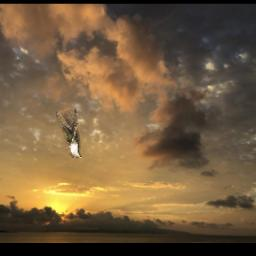Cuckoo: (56, 109, 81, 158)
